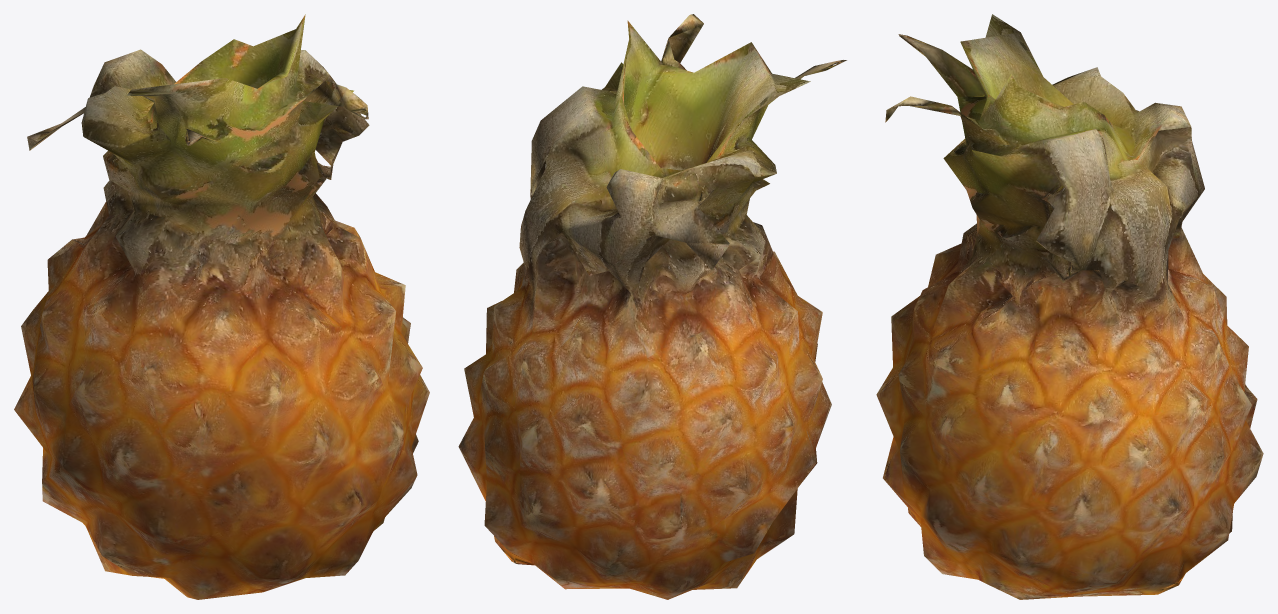
File: 32_pineapple_ripe.glb
3 views of the same model, side by side, from view 1: azimuth 30°, elevation 25°; view 2: azimuth 150°, elevation 25°; view 3: azimuth 270°, elevation 25° (orthographic). The views are drawn at different scales.
Visible parts, largest first — view 1: 32_pineapple; view 2: 32_pineapple; view 3: 32_pineapple.
Boxes of the visible parts, x1,y1,x2,y2 form: 32_pineapple: (14,14,429,599); 32_pineapple: (458,14,846,599); 32_pineapple: (876,14,1263,599).
Size of the model in its own units: 0.8193 by 1.26 by 0.8404.
1 material, 1 textured.
